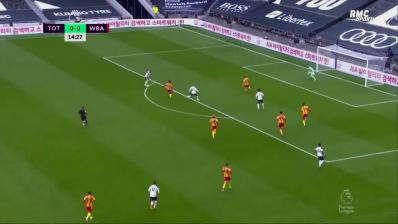football: (146, 83, 150, 88)
player: (146, 179, 162, 213), (81, 189, 97, 221), (218, 161, 234, 193), (313, 141, 327, 170), (298, 101, 312, 127), (275, 110, 288, 138), (207, 114, 221, 140), (253, 89, 267, 112), (186, 83, 202, 102), (162, 79, 174, 100), (143, 68, 154, 90), (305, 64, 317, 82), (242, 75, 252, 93)
referee: (77, 105, 93, 129)
